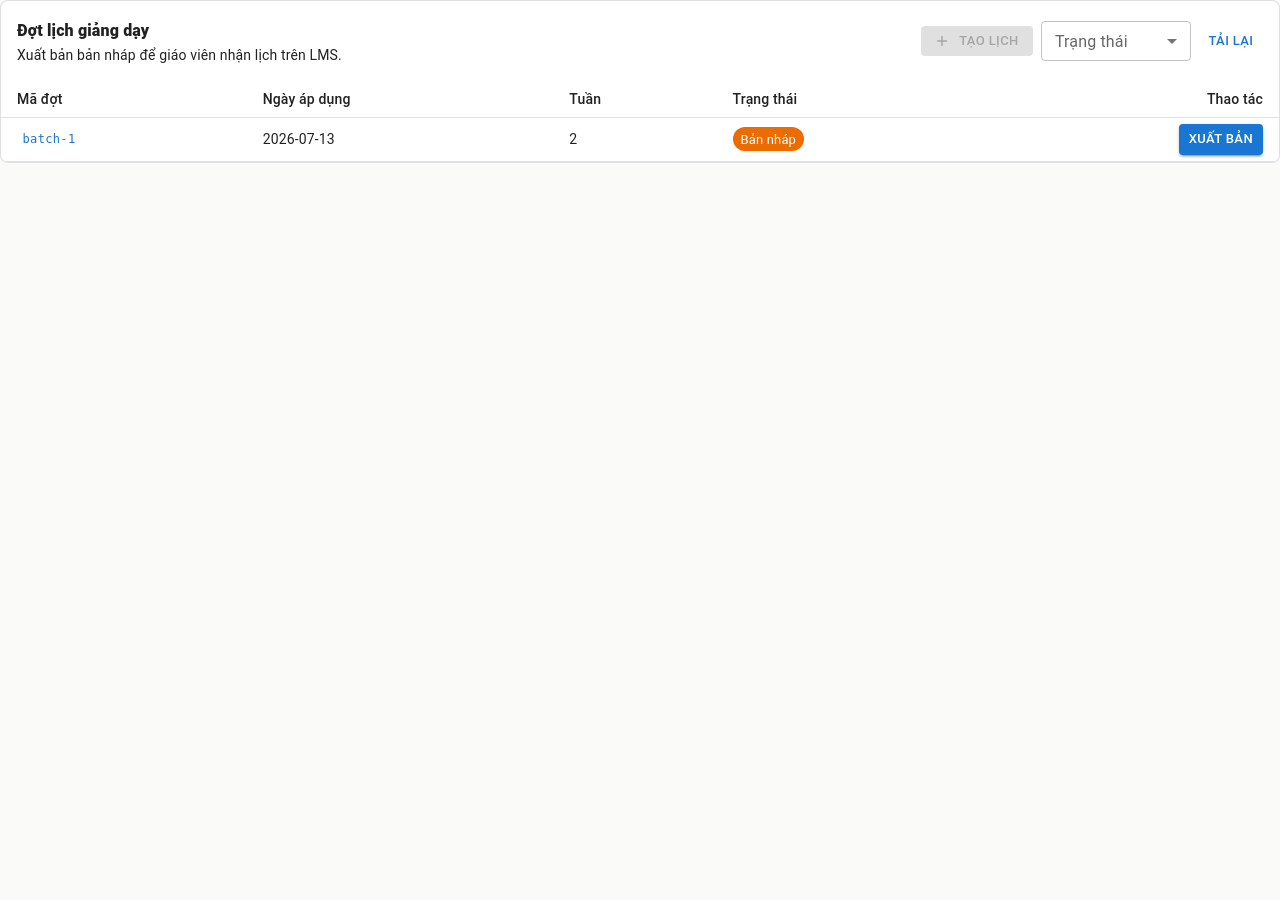
Test: opens batch detail from the paginated batch table
The width and height of the screenshot is (1280, 900).
Click the button with aria-label "Xem đợt batch-1" at (49, 139), box [17,125,81,154]
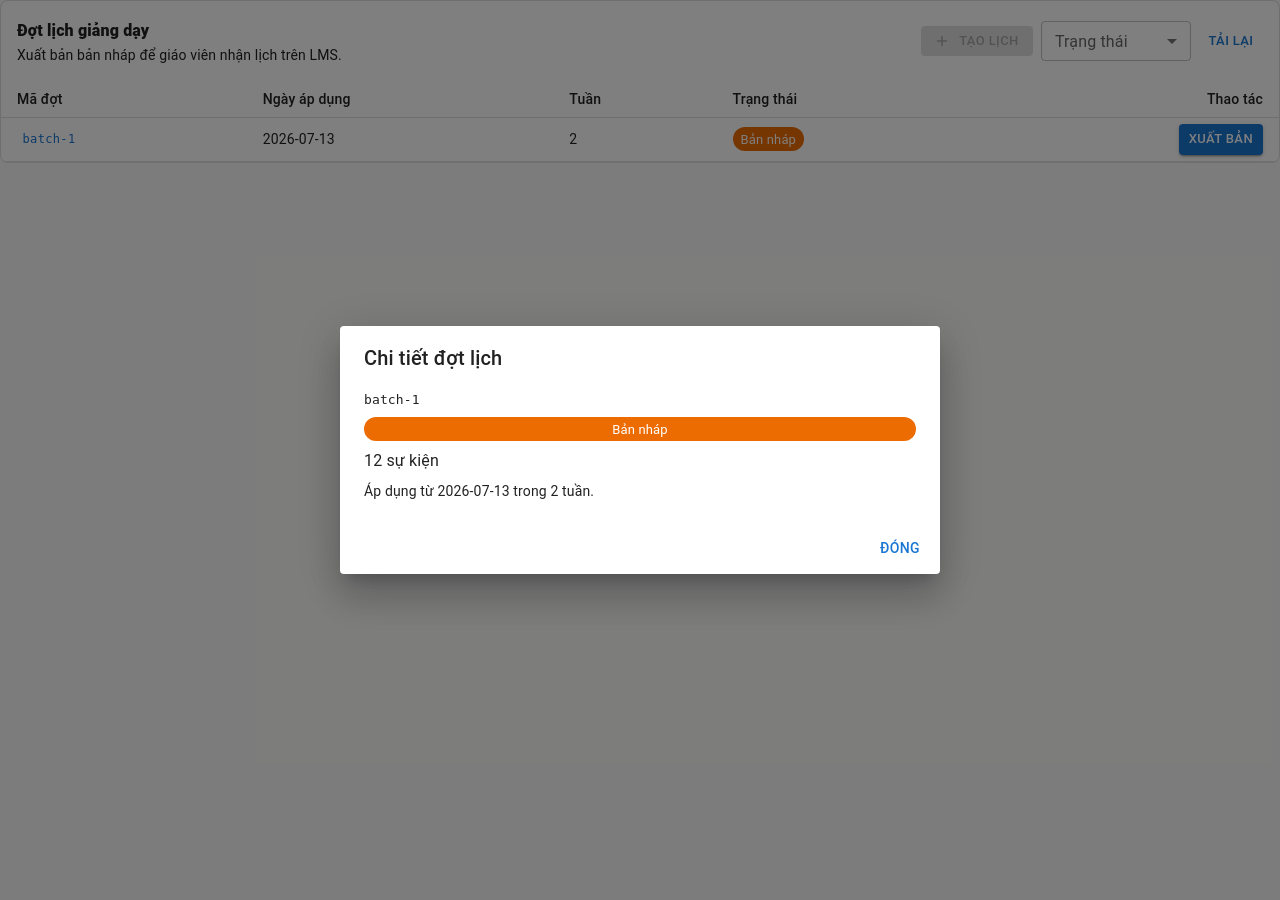
Expected: the text "12 sự kiện" is shown, [364,452,439,470]
